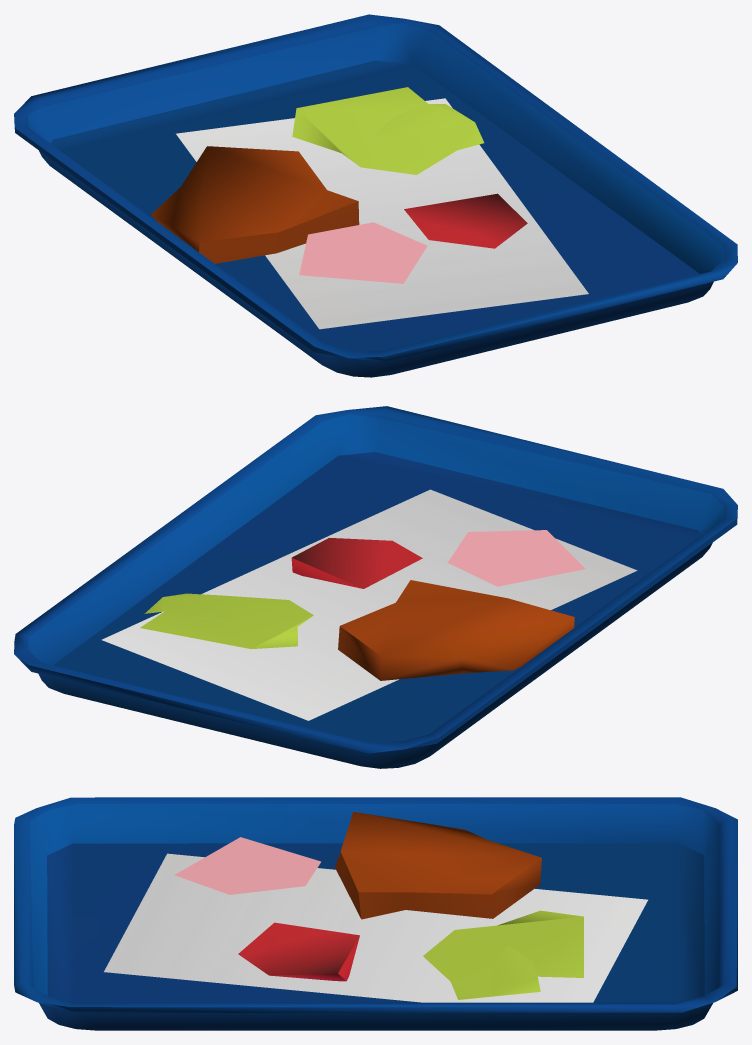
Rendered from Dirty Tray with Burger.fbx.
3 views of the same model, one above another, from view 1: azimuth 30°, elevation 25°; view 2: azimuth 150°, elevation 25°; view 3: azimuth 270°, elevation 25° (orthographic).
Parts seen in each view (by area): view 1: Dirty Tray with Burger; view 2: Dirty Tray with Burger; view 3: Dirty Tray with Burger.
Part boxes in pixels (x1,y1,x2,y2): Dirty Tray with Burger: (14, 14, 737, 377); Dirty Tray with Burger: (14, 406, 737, 768); Dirty Tray with Burger: (14, 797, 737, 1030).
Size of the model in its own units: 0.548 by 0.0427 by 0.7968.
